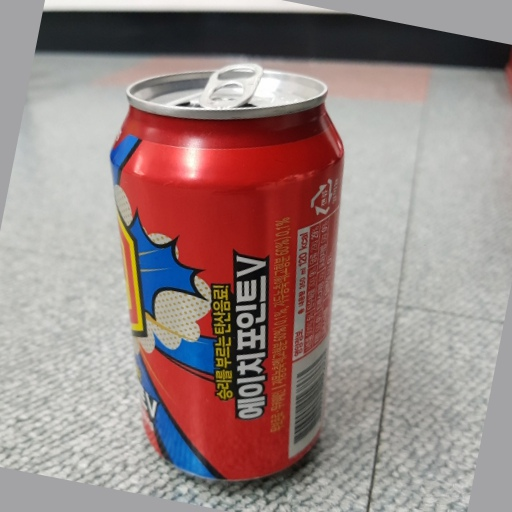Metal_0: (106, 61, 346, 486)
